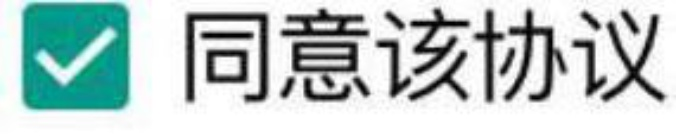CheckBox: (1, 1, 675, 139)
